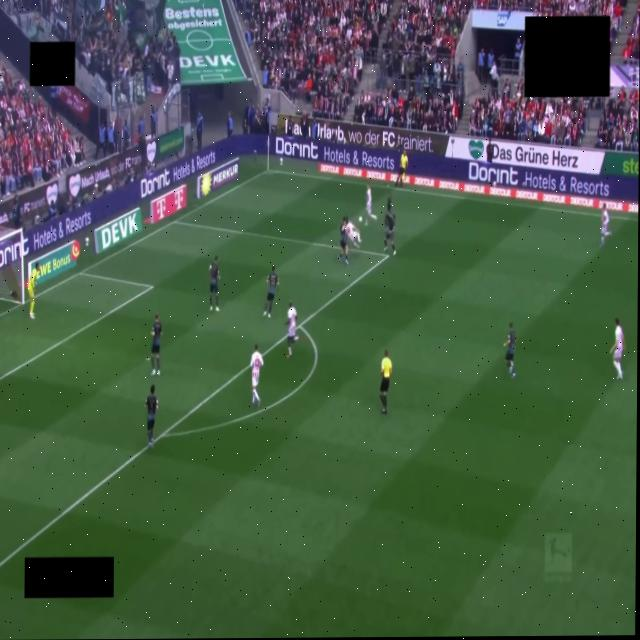ball: (359, 216, 363, 223)
player: (610, 318, 624, 379), (145, 385, 158, 447), (250, 344, 263, 405), (264, 266, 279, 318), (151, 313, 162, 375), (384, 197, 395, 254), (28, 263, 39, 319), (287, 302, 298, 357), (504, 323, 515, 378), (210, 256, 219, 310), (365, 185, 376, 225), (339, 217, 348, 263), (346, 219, 360, 247), (601, 208, 611, 247)
referee: (380, 349, 391, 413)
